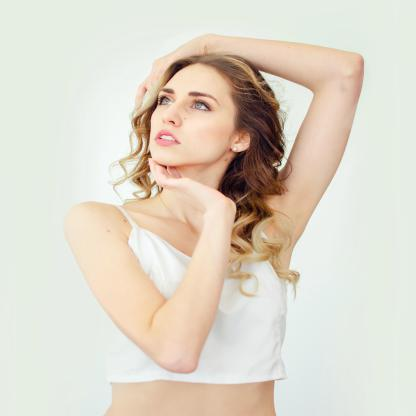Eye: (188, 99, 215, 114), (158, 95, 176, 107)
Mouth: (153, 128, 182, 146)
Nose: (161, 100, 182, 126)
